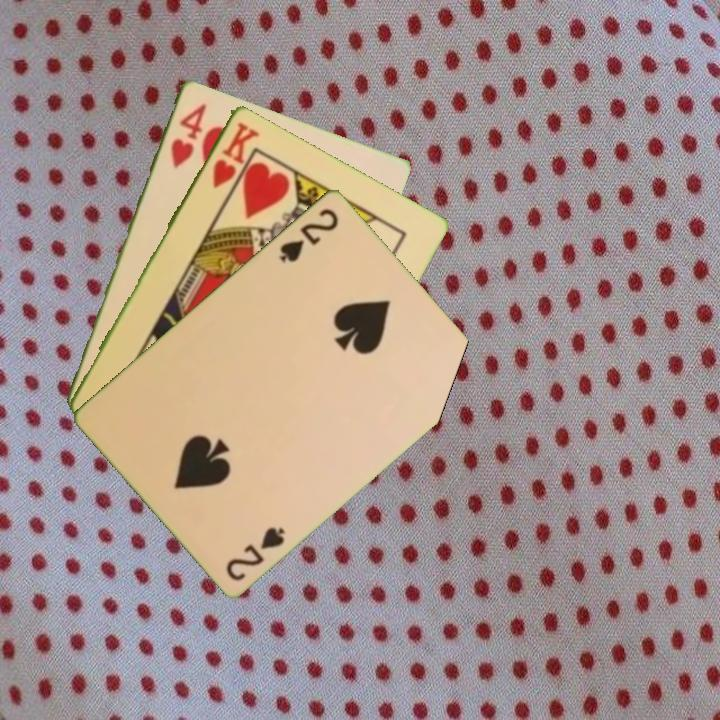2s: (275, 204, 341, 266), (222, 522, 288, 584)
4h: (167, 99, 209, 171)
Kh: (208, 118, 261, 191)
